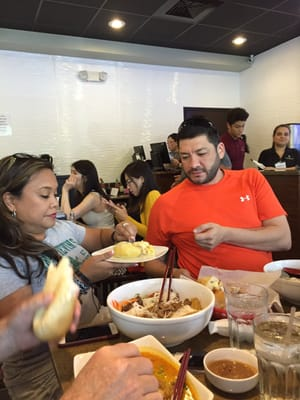pizza: (223, 284, 269, 350)
salad: (157, 245, 177, 306)
sushi: (106, 277, 216, 345), (202, 347, 260, 395)
